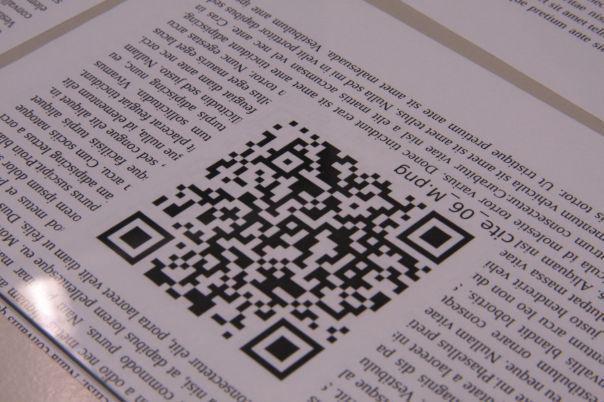Finder pattern: (239, 316, 324, 378), (395, 208, 477, 263), (97, 209, 176, 266)
